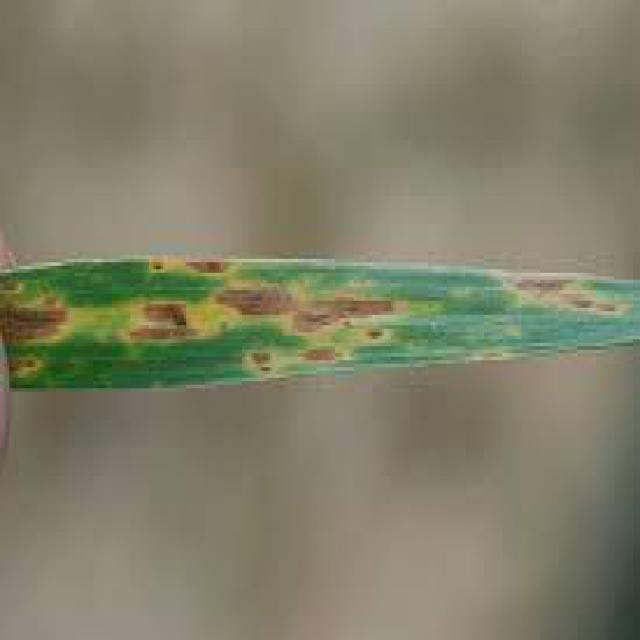Septoria: (0, 258, 639, 391)
